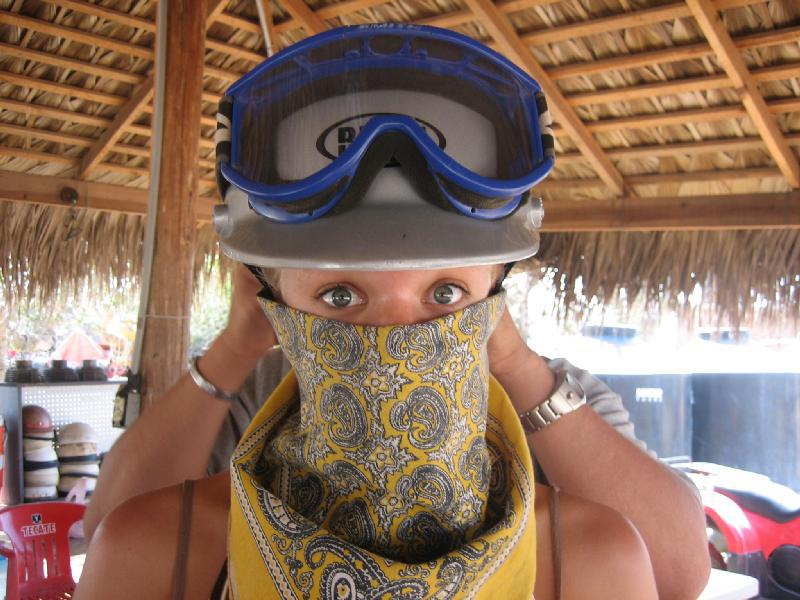OK: (278, 252, 520, 494)
